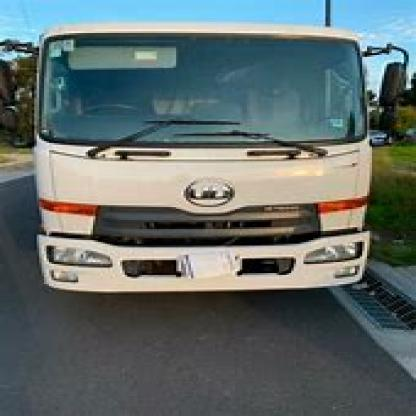dump_truck: (17, 13, 387, 299)
